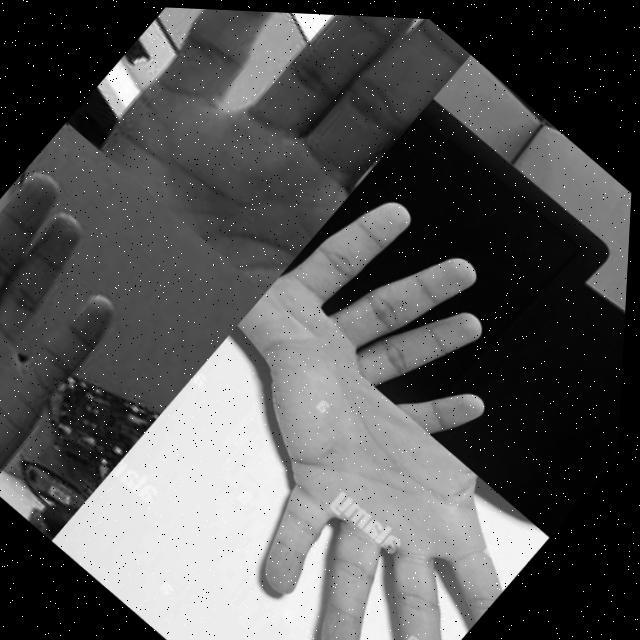no-gloves: (136, 307, 564, 640), (77, 3, 472, 296), (262, 162, 567, 452), (0, 157, 177, 492)
